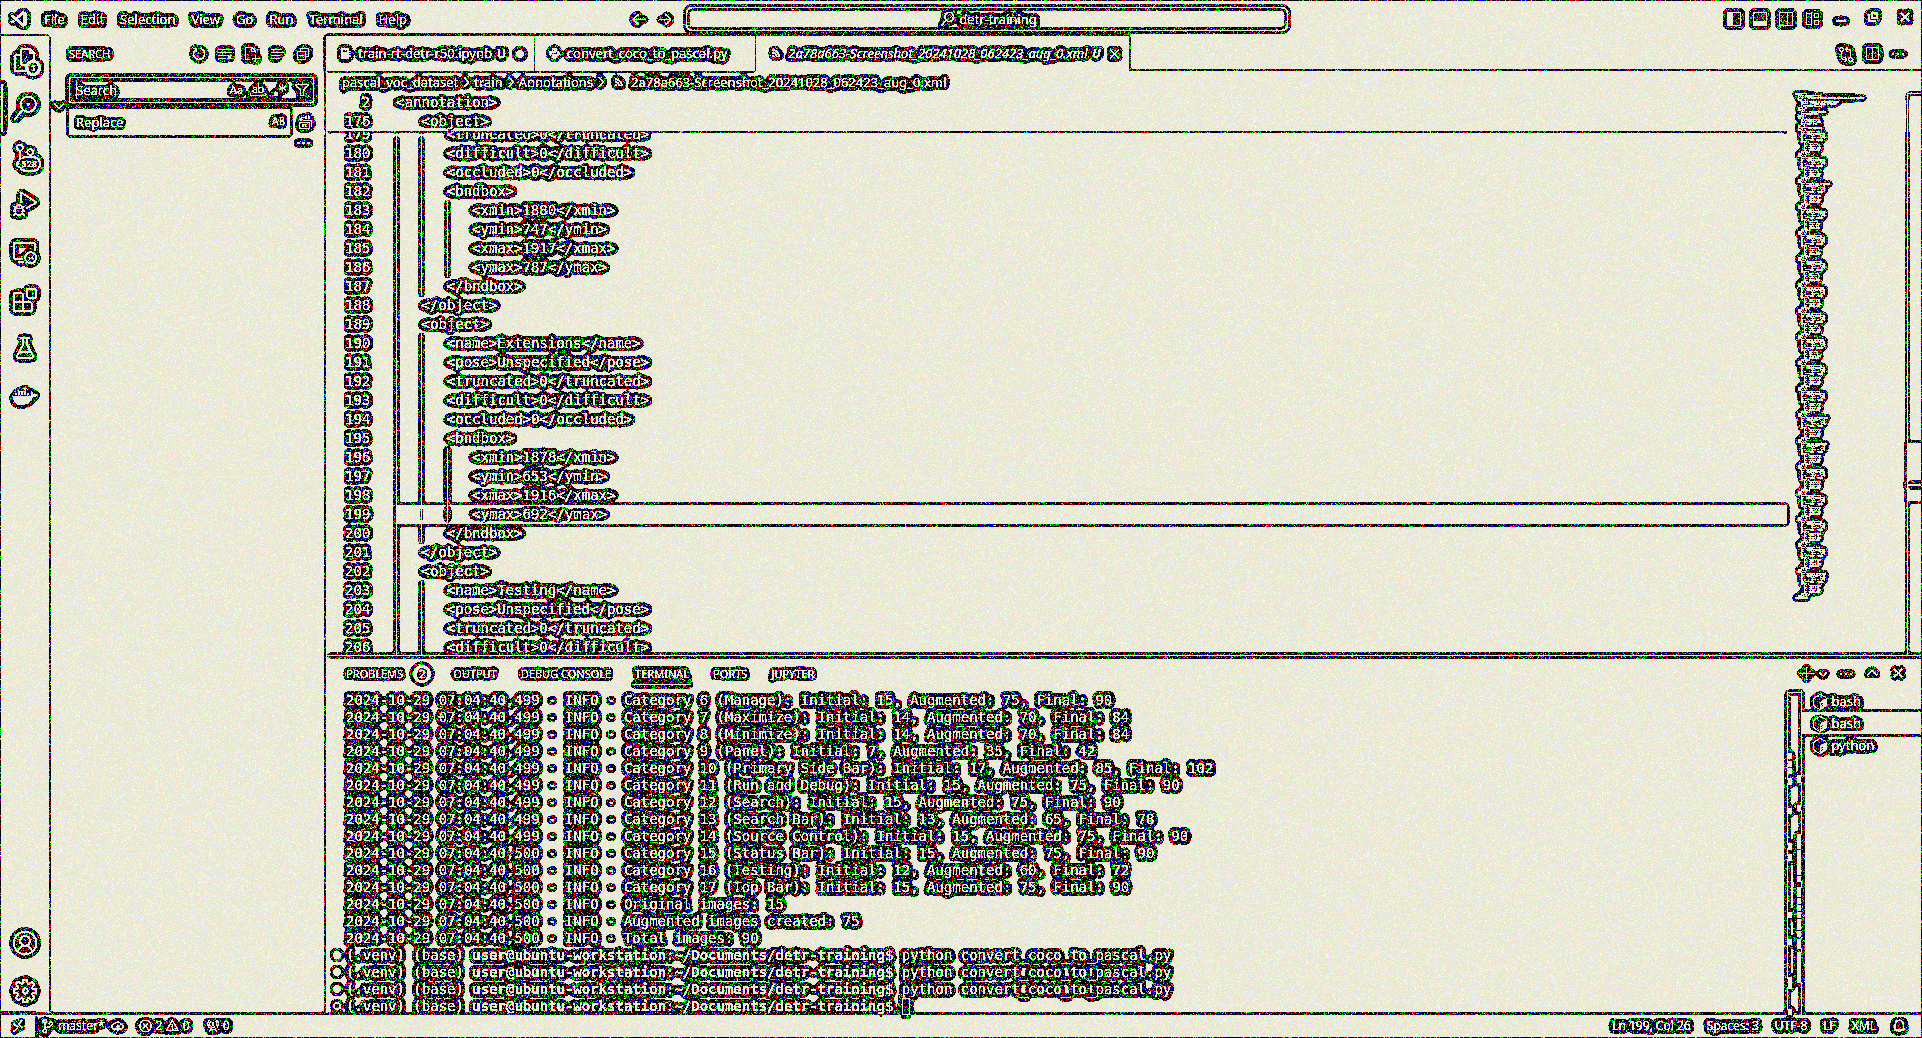Accounts: (4, 926, 40, 963)
Activity Bar: (1, 40, 49, 1012)
Close: (1895, 3, 1910, 27)
Editor: (334, 40, 1919, 655)
Explorer: (6, 40, 43, 82)
Extensions: (6, 277, 42, 314)
Manage: (6, 975, 38, 1009)
Maximize: (1861, 1, 1882, 29)
Minimize: (1831, 4, 1853, 29)
Panel: (332, 657, 1919, 1012)
Primary Side Bar: (49, 37, 330, 1012)
Run and Debug: (6, 187, 38, 222)
Search: (9, 89, 43, 124)
Search Bar: (680, 1, 1293, 35)
Source Control: (9, 139, 43, 176)
Status Bar: (0, 1014, 1919, 1035)
Testing: (4, 329, 43, 366)
Top Bar: (1, 3, 1919, 37)
